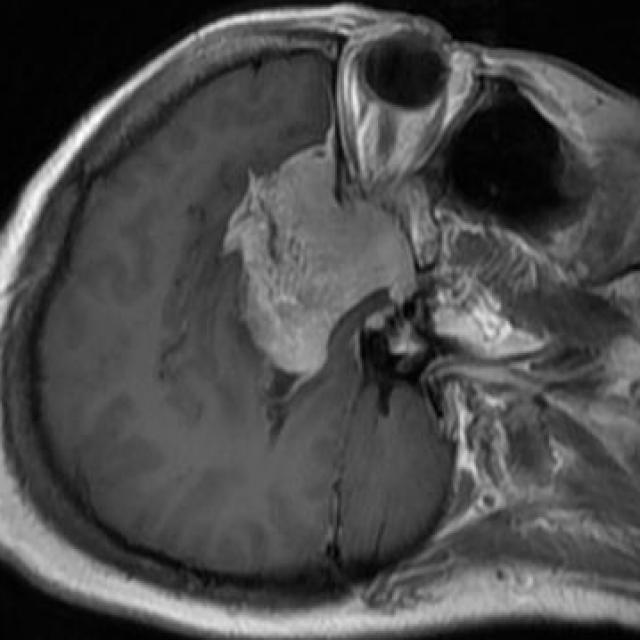meningioma: (225, 143, 419, 376)
